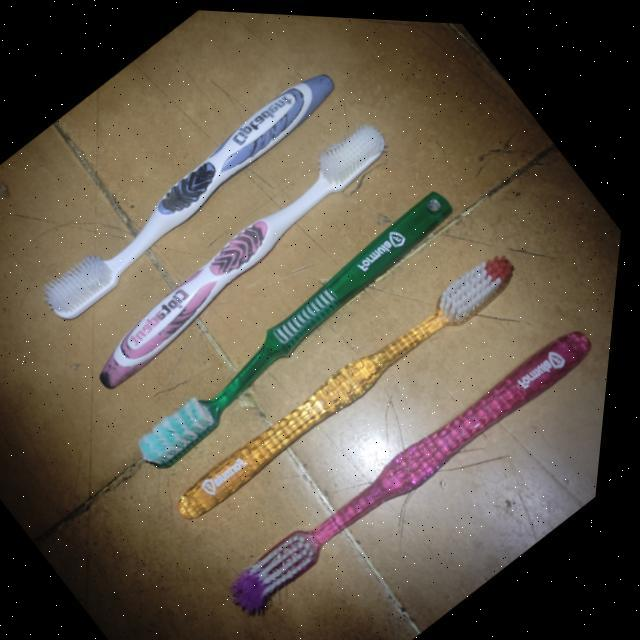toothbrush: (194, 268, 620, 640), (144, 201, 544, 564), (96, 143, 492, 504), (51, 70, 431, 418), (3, 21, 369, 356)
